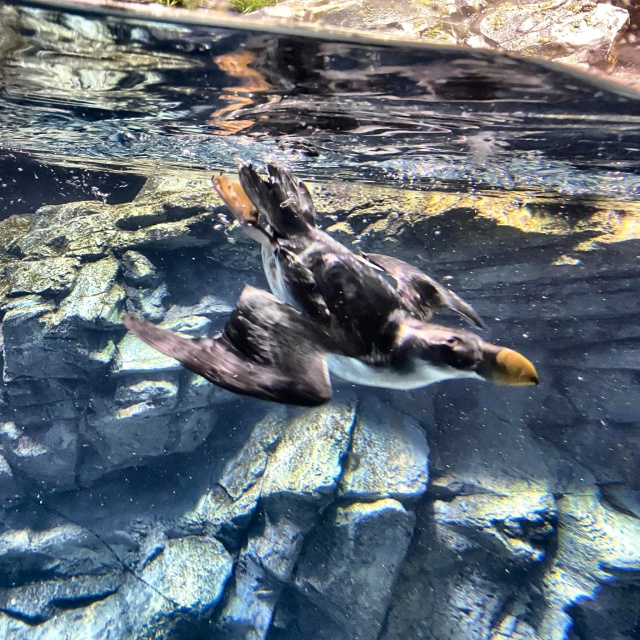puffin: (122, 150, 543, 405)
